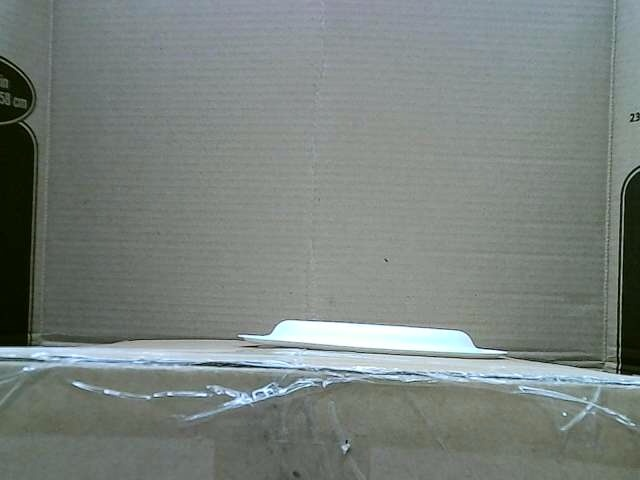Plate: (237, 317, 508, 360)
